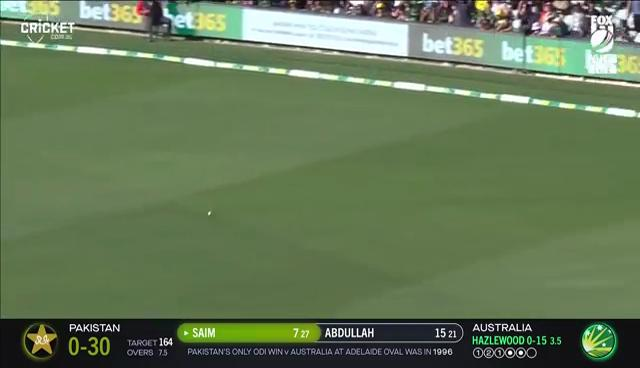ball: (202, 204, 222, 223)
